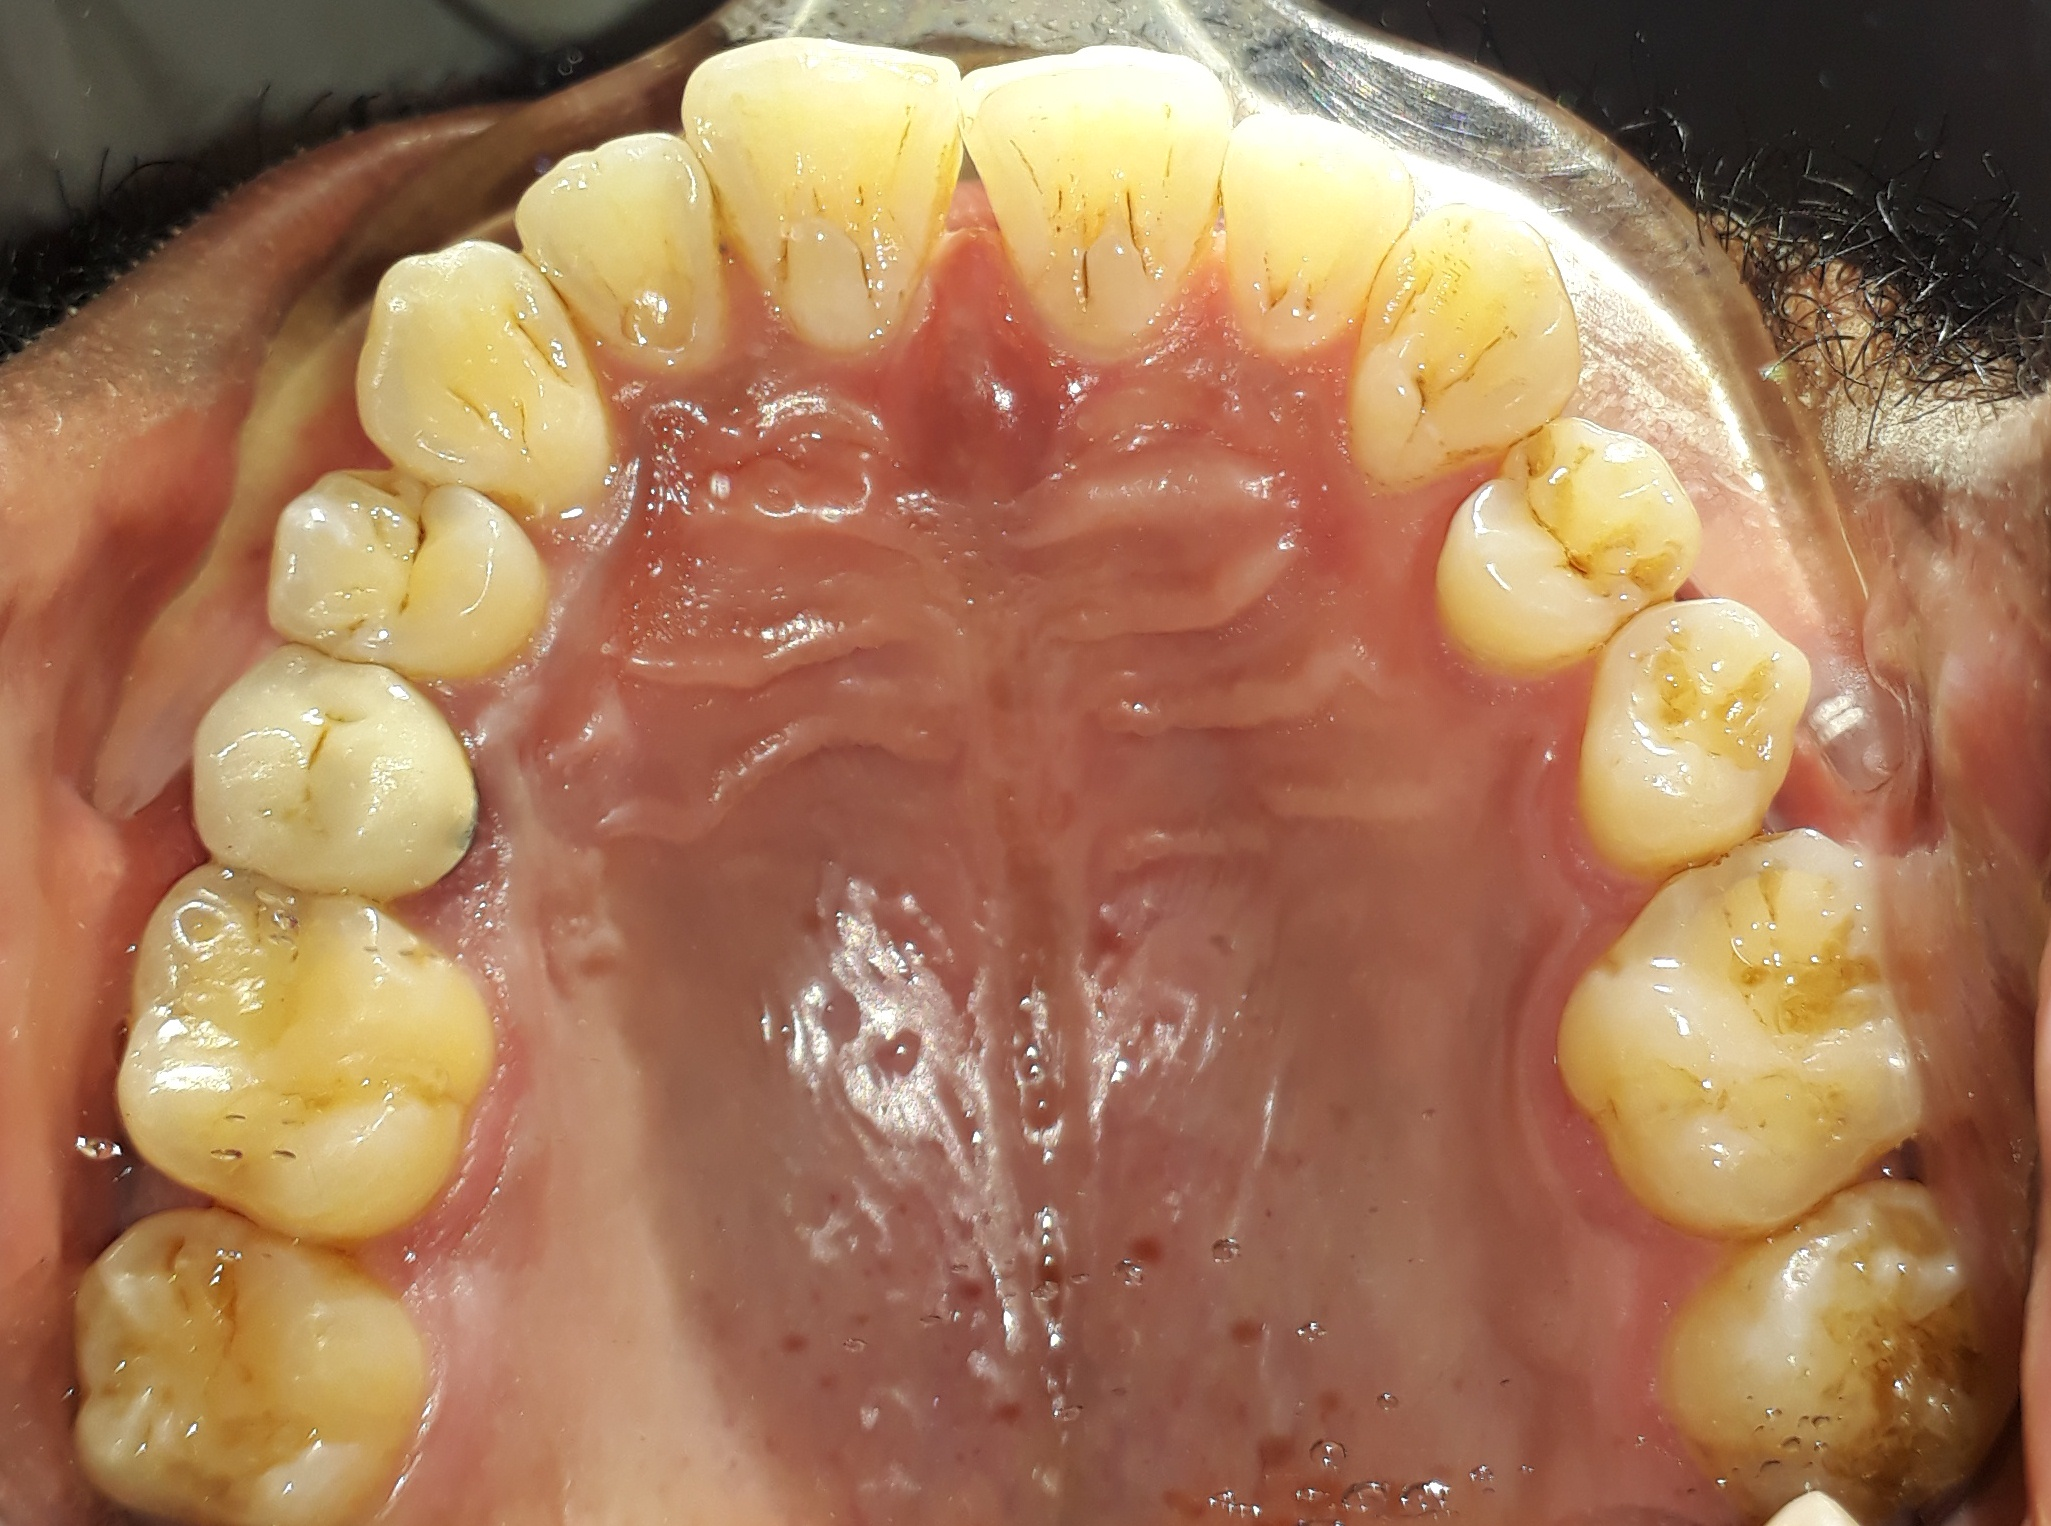1st Molar: (119, 862, 500, 1241), (1561, 835, 1916, 1237)
1st Premolar: (1436, 412, 1700, 670), (268, 463, 554, 680)
2nd Molar: (72, 1217, 449, 1524), (1649, 1180, 1984, 1504)
2nd Premolar: (184, 657, 481, 886), (1570, 591, 1815, 866)
Canine: (356, 239, 617, 507), (1351, 208, 1580, 478)
Central Incisor: (691, 34, 961, 377), (965, 40, 1219, 373)
Lateral Incisor: (514, 123, 732, 386), (1221, 104, 1410, 361)
